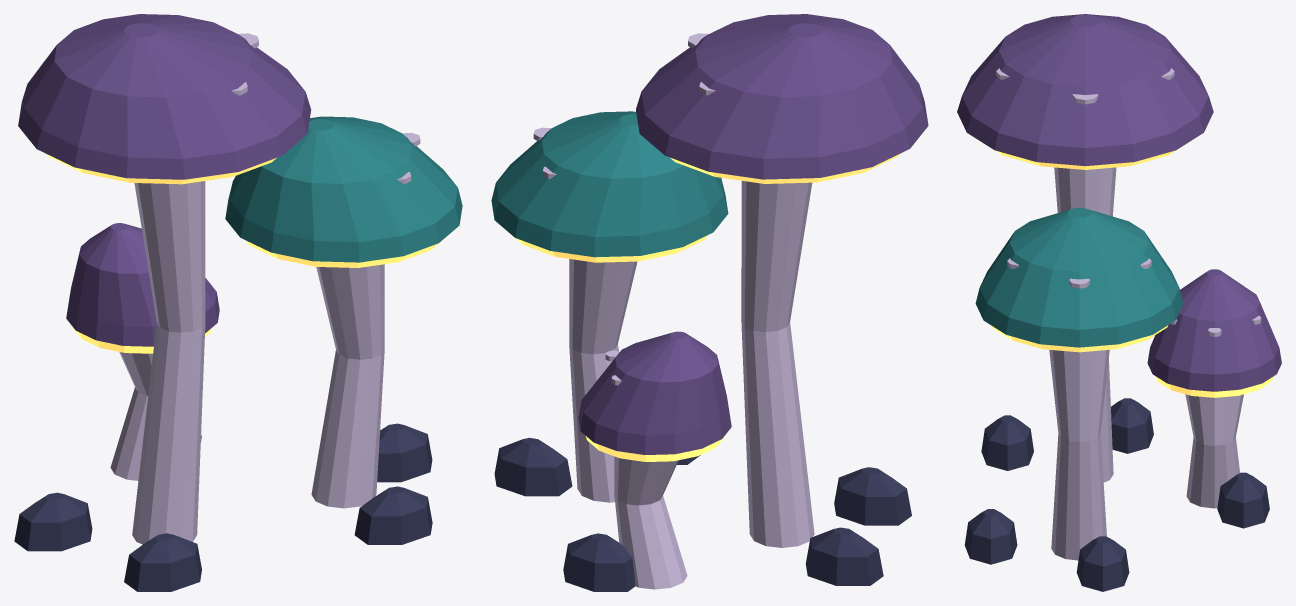
The model's file is moonwood-mushrooms.glb.
3 views of the same model, side by side, from view 1: azimuth 30°, elevation 25°; view 2: azimuth 150°, elevation 25°; view 3: azimuth 270°, elevation 25° (orthographic). The views are drawn at different scales.
Visible parts, largest first — view 1: Structure; view 2: Structure; view 3: Structure.
Boxes of the visible parts, bbox=[...] form: Structure: bbox=[14, 14, 462, 591]; Structure: bbox=[491, 14, 928, 591]; Structure: bbox=[957, 14, 1281, 591].
Bounding box in the file's own units: 3.48 × 4.16 × 2.76.
